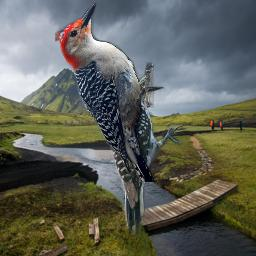Woodpecker: (55, 3, 154, 182), (106, 78, 186, 237)
